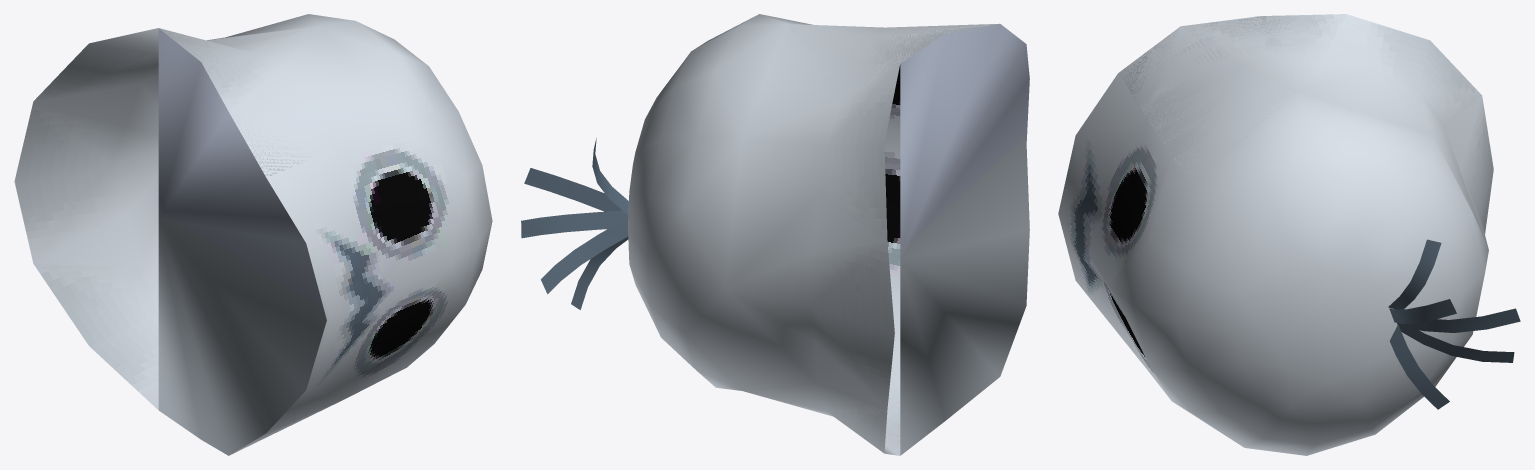
Rendered from hlmt_hlwn_ghost.dae.
3 views of the same model, side by side, from view 1: azimuth 30°, elevation 25°; view 2: azimuth 150°, elevation 25°; view 3: azimuth 270°, elevation 25° (orthographic). The views are drawn at different scales.
Parts seen in each view (by area): view 1: hlmt_hlwn_ghost; view 2: hlmt_hlwn_ghost; view 3: hlmt_hlwn_ghost.
Part boxes in pixels (x1,y1,x2,y2): hlmt_hlwn_ghost: (14,14,492,455); hlmt_hlwn_ghost: (521,14,1029,455); hlmt_hlwn_ghost: (1058,14,1520,455).
Bounding box in the file's own units: 27.52 × 26.46 × 29.36.
1 material, 1 textured.
